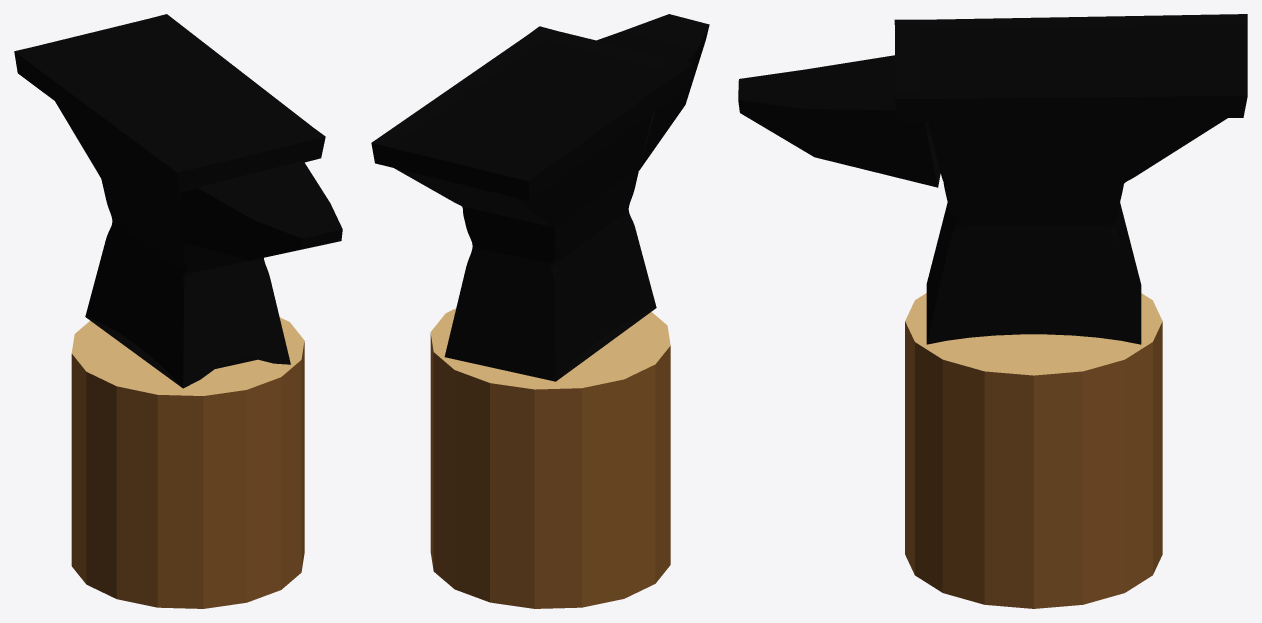
File: anvilStump.fbx
The picture shows the model from 3 angles, left to right: view 1: azimuth 30°, elevation 25°; view 2: azimuth 150°, elevation 25°; view 3: azimuth 270°, elevation 25°; orthographic projection. The views are drawn at different scales.
Parts seen in each view (by area): view 1: AnvilStump; view 2: AnvilStump; view 3: AnvilStump.
Boxes of the visible parts, bbox=[...] form: AnvilStump: bbox=[14, 14, 342, 608]; AnvilStump: bbox=[371, 14, 709, 608]; AnvilStump: bbox=[738, 14, 1247, 608].
Bounding box in the file's own units: 111 × 237 × 219.
